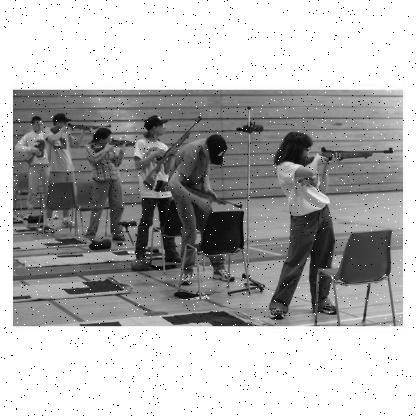gun: (142, 114, 200, 186), (152, 180, 242, 210), (302, 145, 394, 169), (50, 121, 112, 134)
